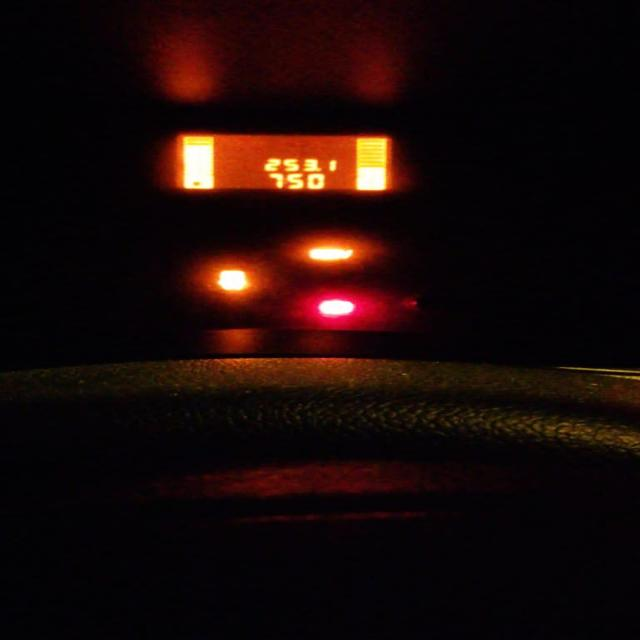odometer: (172, 134, 391, 192)
